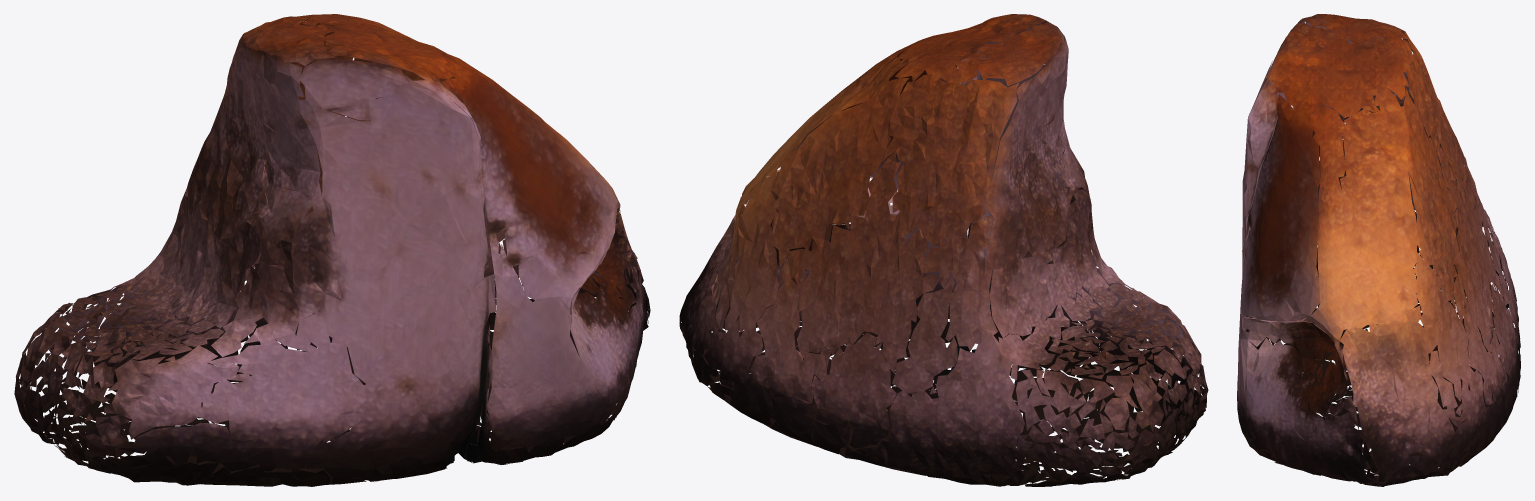
Rendered from category_mesh_rock_1.glb.
The picture shows the model from 3 angles, left to right: view 1: azimuth 30°, elevation 25°; view 2: azimuth 150°, elevation 25°; view 3: azimuth 270°, elevation 25°; orthographic projection. The views are drawn at different scales.
Visible parts, largest first — view 1: category_mesh_rock_1; view 2: category_mesh_rock_1; view 3: category_mesh_rock_1.
Boxes of the visible parts, x1,y1,x2,y2 form: category_mesh_rock_1: (14,14,650,486); category_mesh_rock_1: (679,14,1208,486); category_mesh_rock_1: (1237,14,1520,486).
Size of the model in its own units: 1 by 0.7004 by 0.5242.
Materials: 1 (1 with a texture image).
